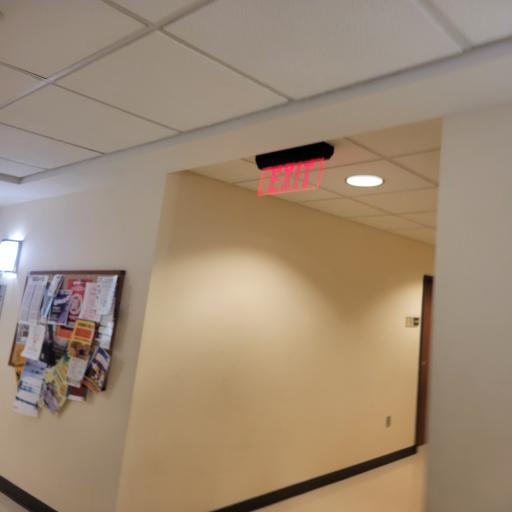exit sign: (244, 134, 348, 203)
poster board: (0, 264, 127, 420)
